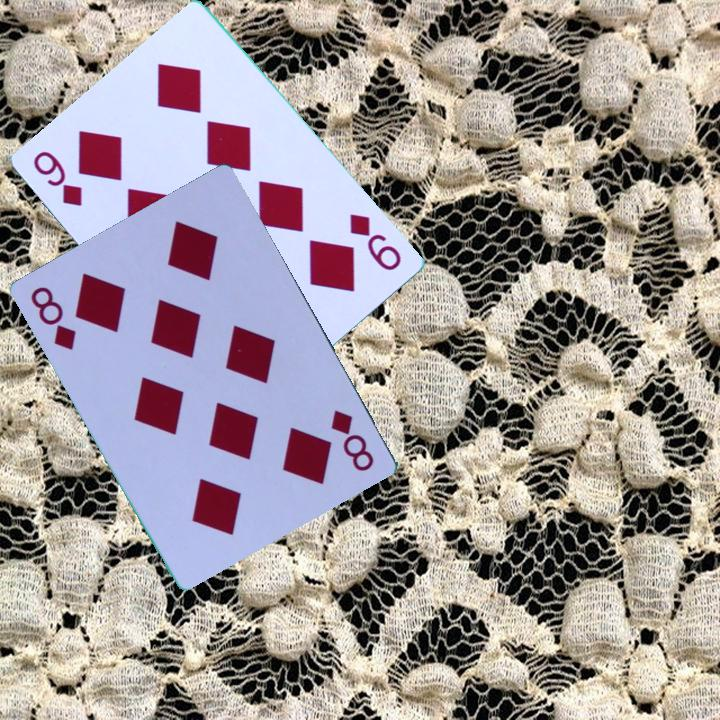8d: (26, 282, 79, 353), (326, 406, 377, 474)
9d: (346, 210, 406, 274), (30, 147, 87, 210)
